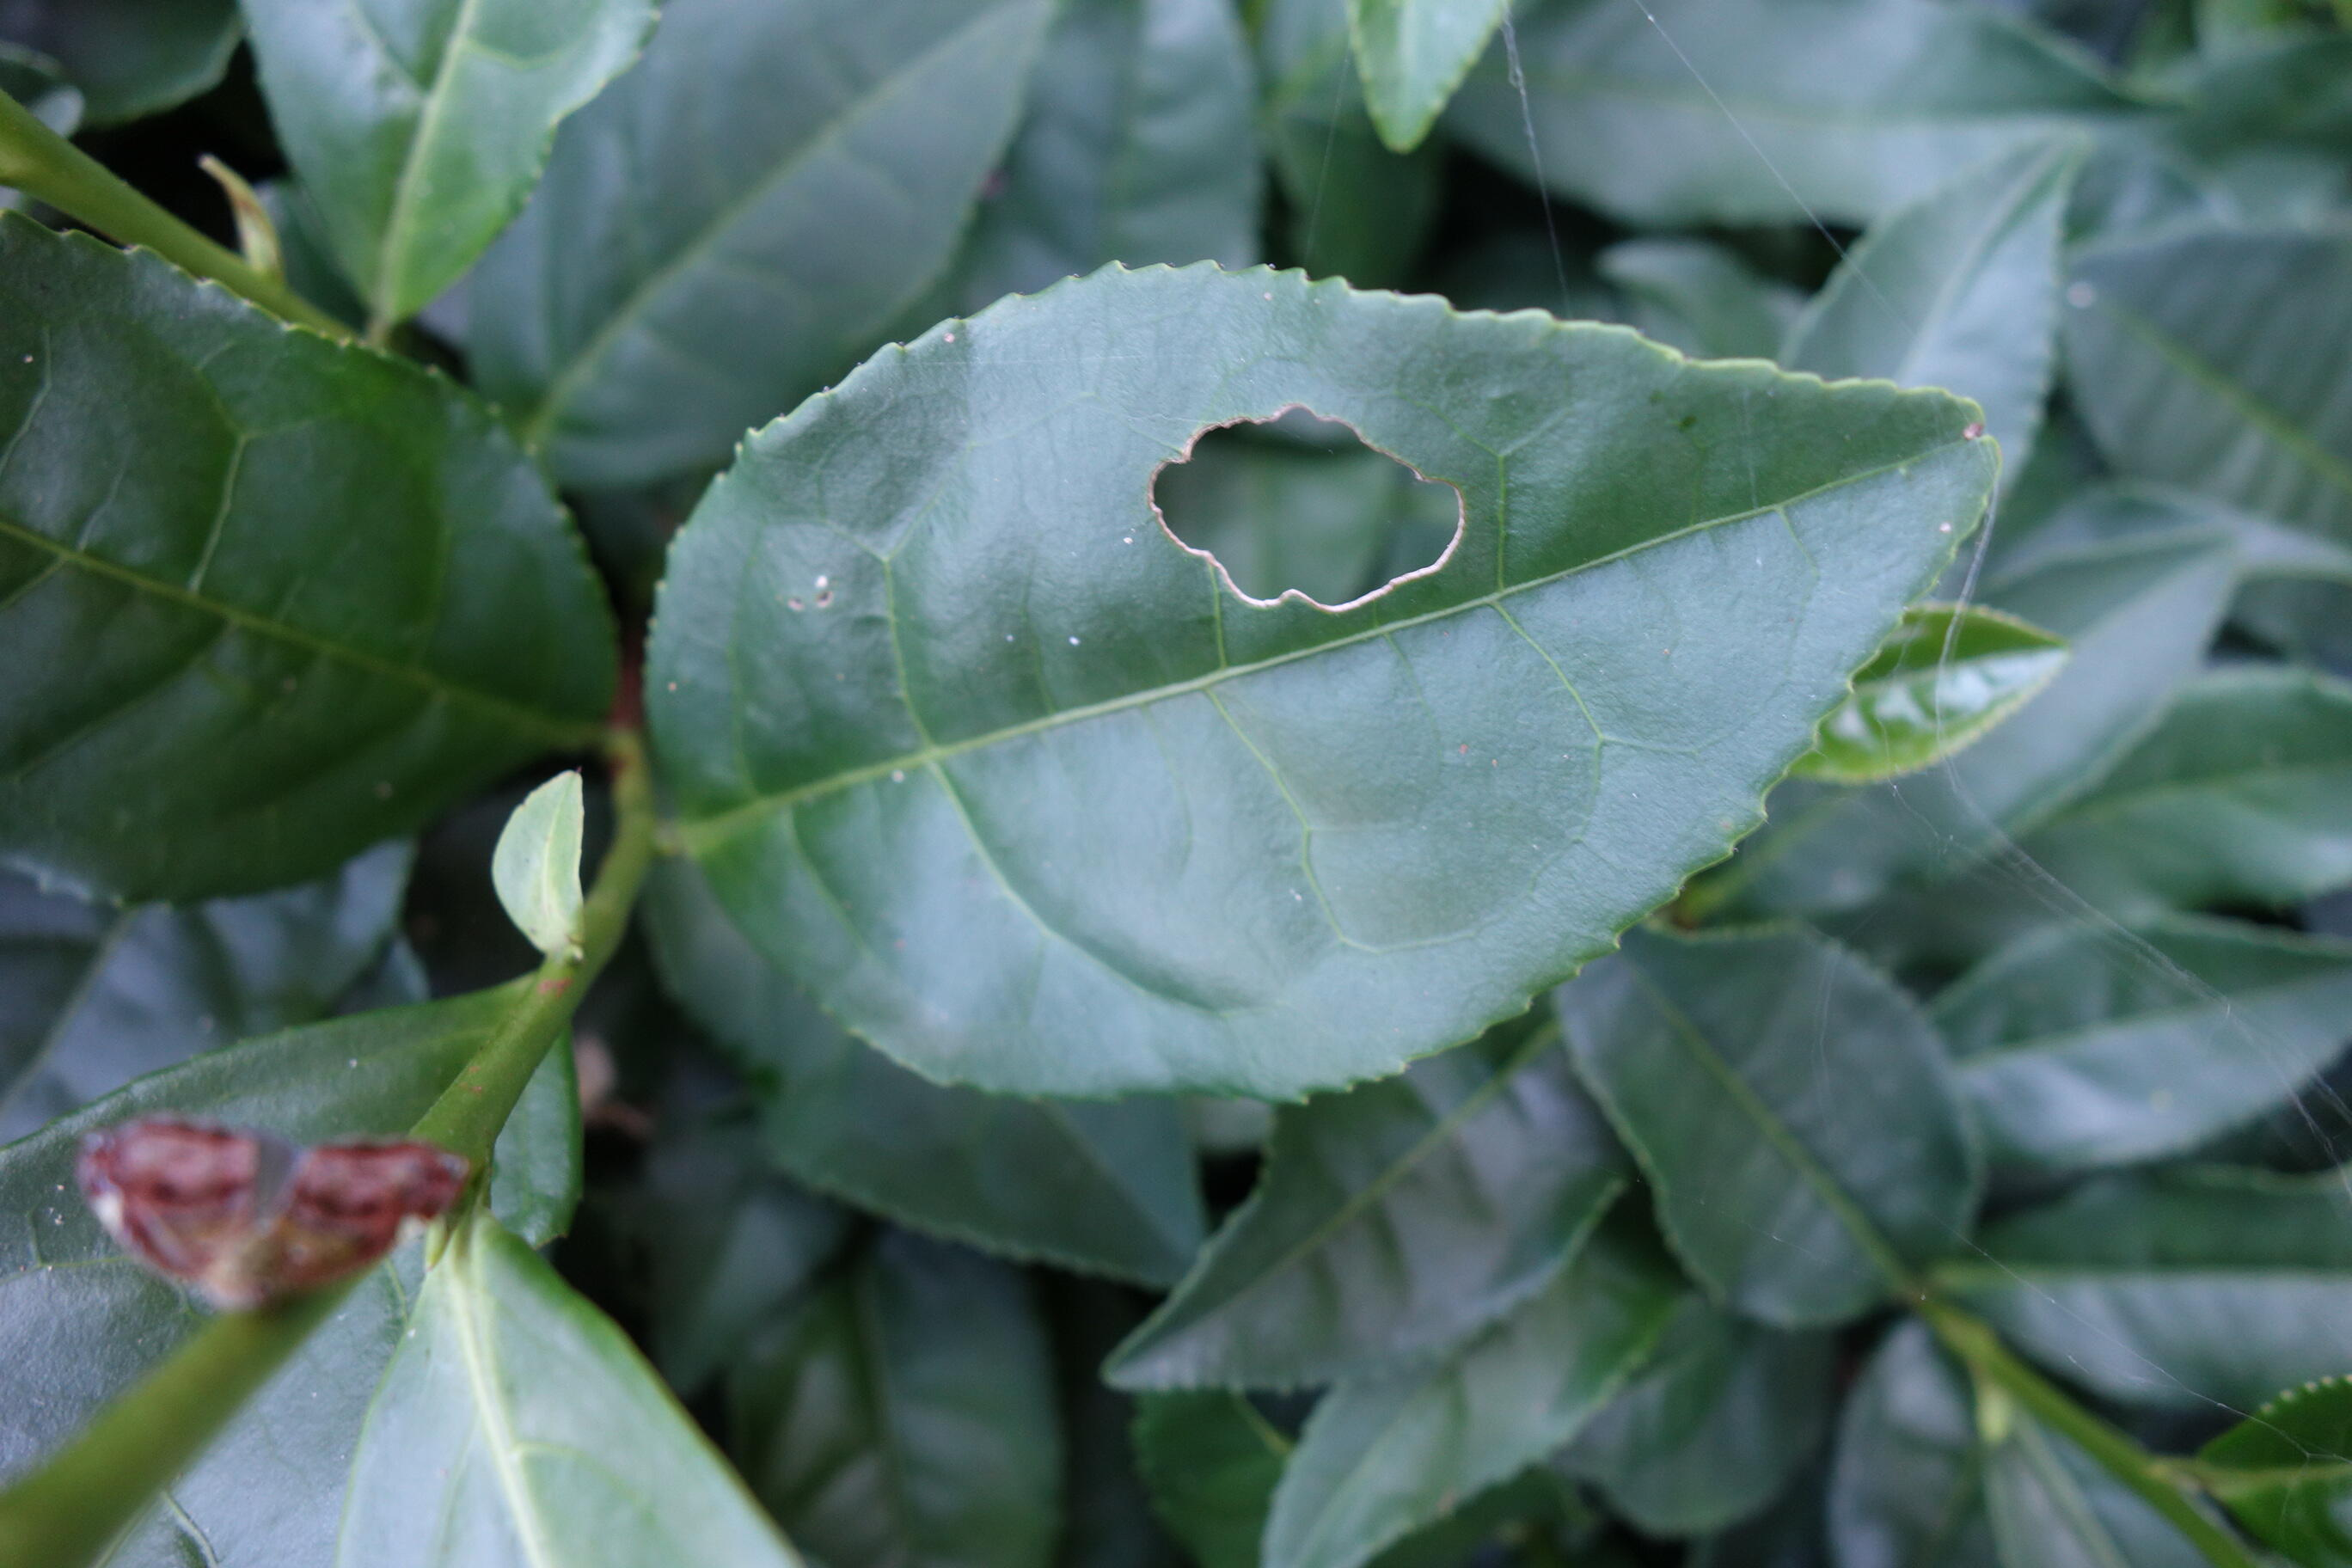chihuo_low: (633, 259, 1998, 1104)
